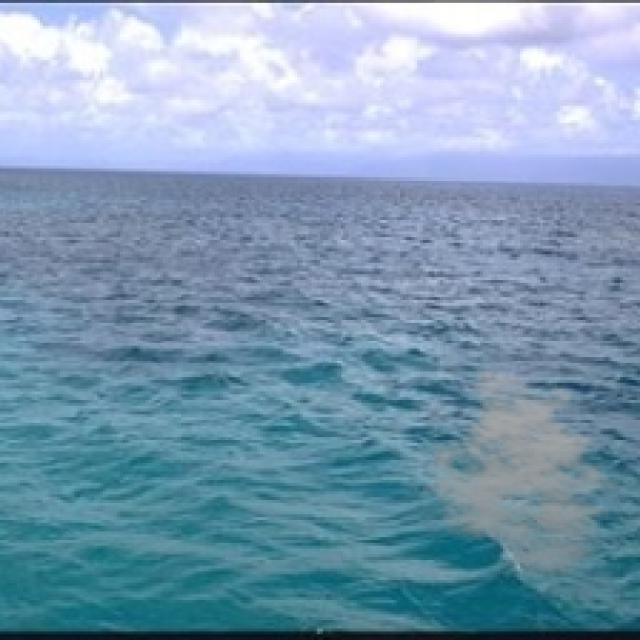Smoke: (421, 368, 628, 580)
